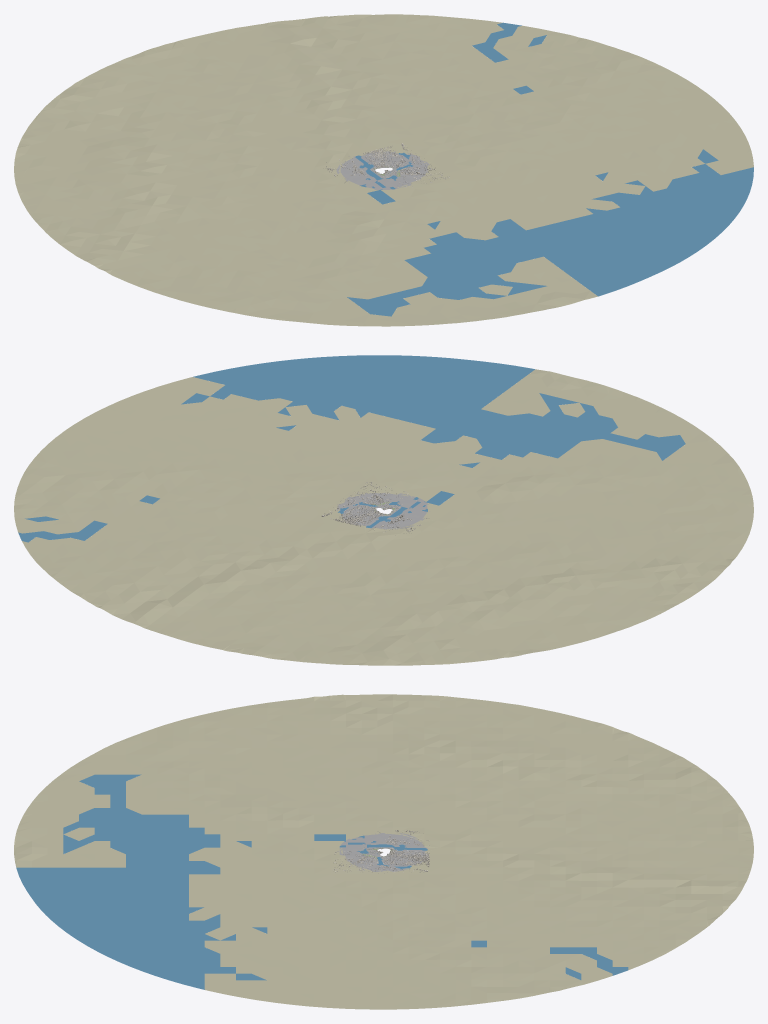
Rendered from backdrop.glb.
3 views of the same model, one above another, from view 1: azimuth 30°, elevation 25°; view 2: azimuth 150°, elevation 25°; view 3: azimuth 270°, elevation 25° (orthographic).
Parts seen in each view (by area): view 1: backdrop_horizon_land, backdrop_horizon_water, backdrop_terrain_paved, backdrop_buildings_building_local_wall_b; view 2: backdrop_horizon_land, backdrop_horizon_water, backdrop_terrain_paved, backdrop_buildings_building_local_wall_b; view 3: backdrop_horizon_land, backdrop_horizon_water, backdrop_terrain_paved, backdrop_buildings_building_local_wall_b.
Part boxes in pixels (left/top/right/bottom): backdrop_horizon_land: left=14, top=14, right=753, bottom=326; backdrop_horizon_water: left=347, top=22, right=753, bottom=316; backdrop_terrain_paved: left=336, top=151, right=431, bottom=189; backdrop_buildings_building_local_wall_b: left=327, top=143, right=448, bottom=184; backdrop_horizon_land: left=14, top=369, right=753, bottom=665; backdrop_horizon_water: left=18, top=355, right=685, bottom=542; backdrop_terrain_paved: left=337, top=493, right=429, bottom=529; backdrop_buildings_building_local_wall_b: left=322, top=483, right=419, bottom=532; backdrop_horizon_land: left=14, top=694, right=753, bottom=1009; backdrop_horizon_water: left=16, top=774, right=628, bottom=989; backdrop_terrain_paved: left=339, top=833, right=427, bottom=871; backdrop_buildings_building_local_wall_b: left=335, top=830, right=429, bottom=872.
Bounding box in the file's own units: 71154 × 276 × 70711.
